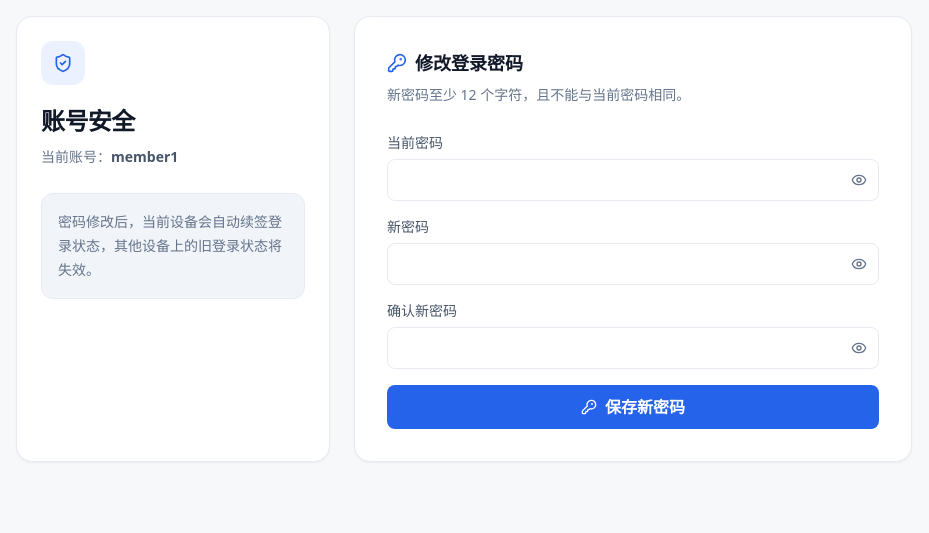
Test: AccountSecurityPage › validates confirmation before submitting
Type "current-password" into the password field labelled "当前密码" at (633,180), box [387, 159, 879, 201]
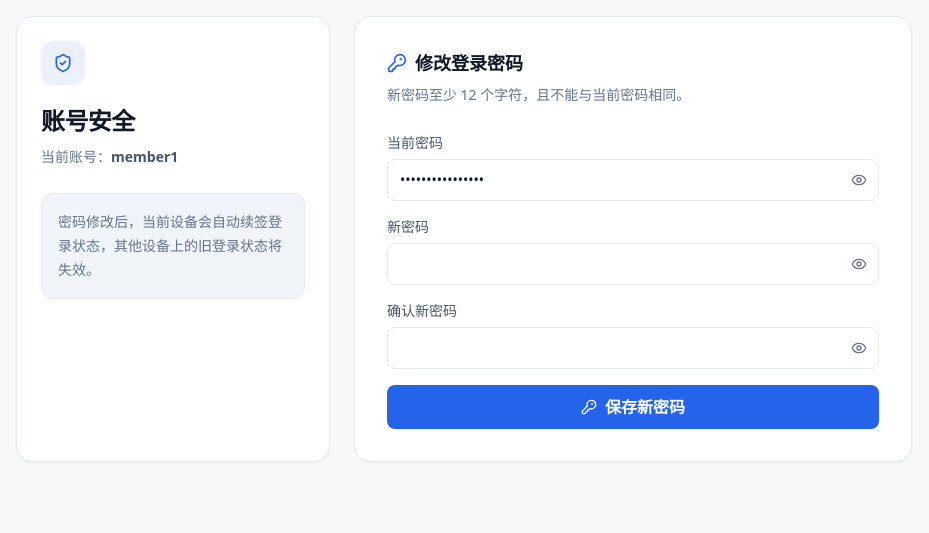
Type "new-password-123" into the password field labelled "新密码" at (633,264), box [387, 243, 879, 285]
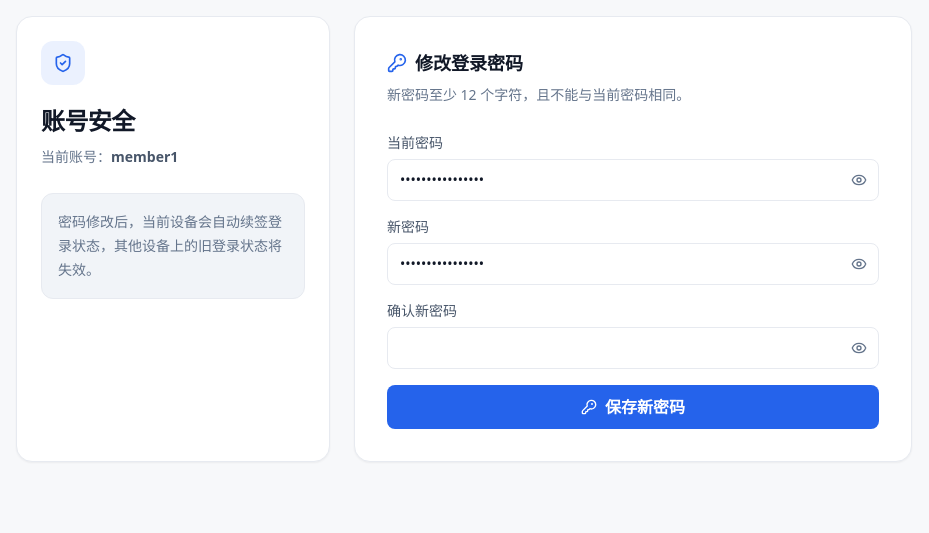
Type "different-password" into the password field labelled "确认新密码" at (633,348), box [387, 327, 879, 369]
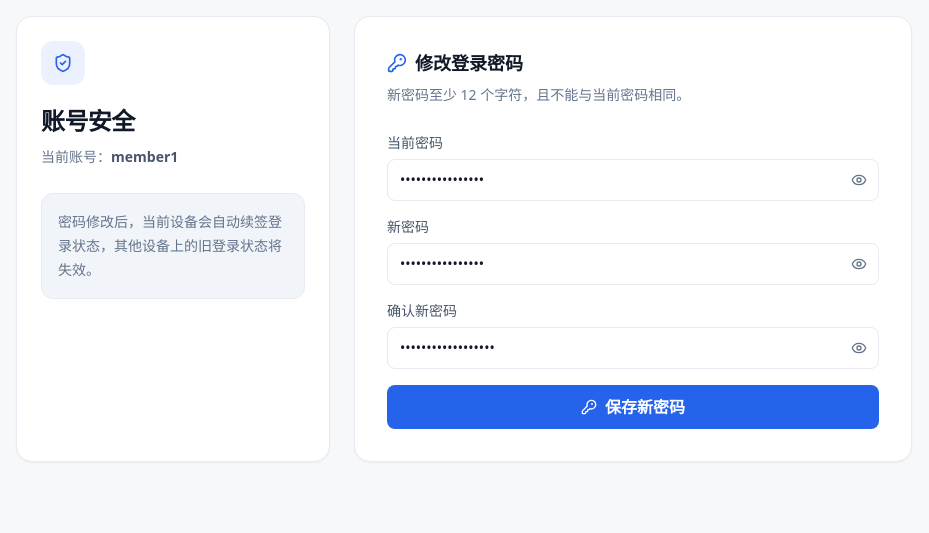
Click the button "保存新密码" at (633,407), box [387, 385, 879, 429]
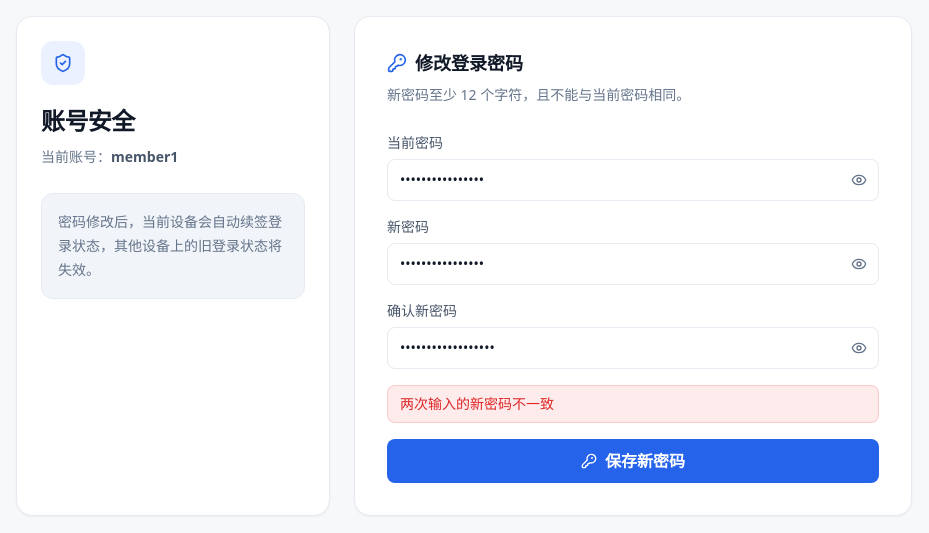
Check: the message reads "两次输入的新密码不一致", box [400, 394, 554, 413]
